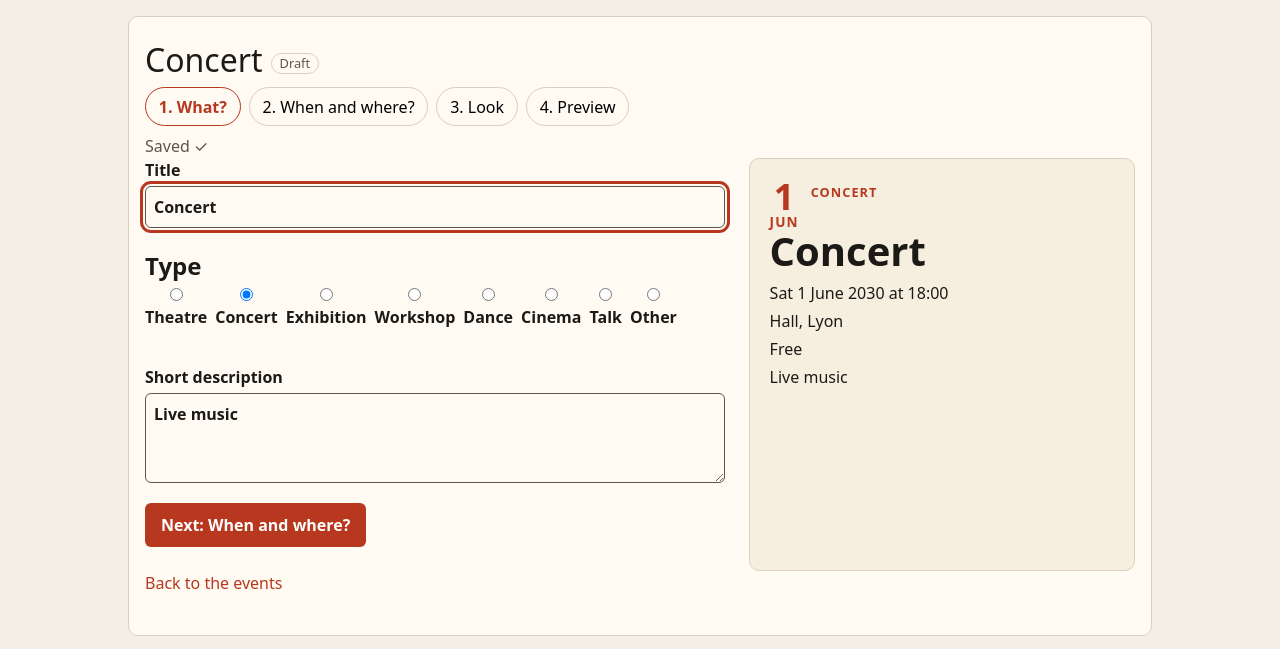
Test: conflicts and session (UC17, UC15 *b) › choosing theirs drops my change and reloads the event
expect the navigation bar named "Steps" is shown: met, box [145,87,629,126]
Replace the text in the field labelled "Title" with "Mine". click: (435, 207)
box: [145,186,725,228]
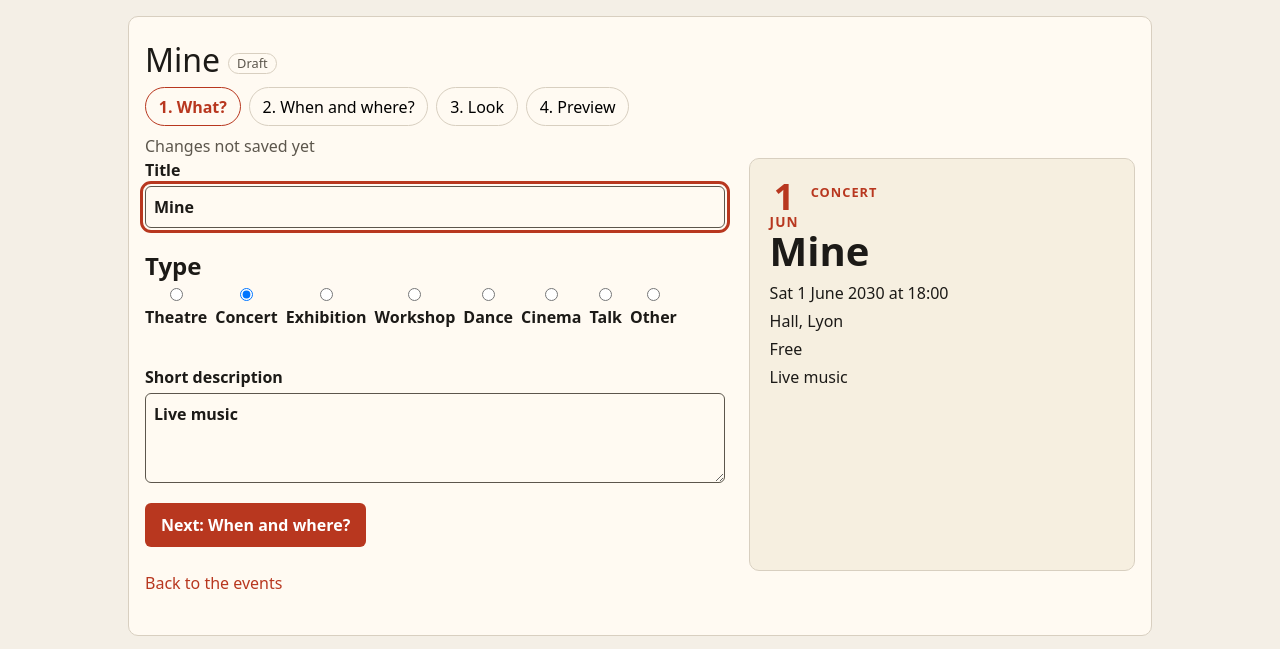
Leave the field labelled "Title", box [145,186,725,228]
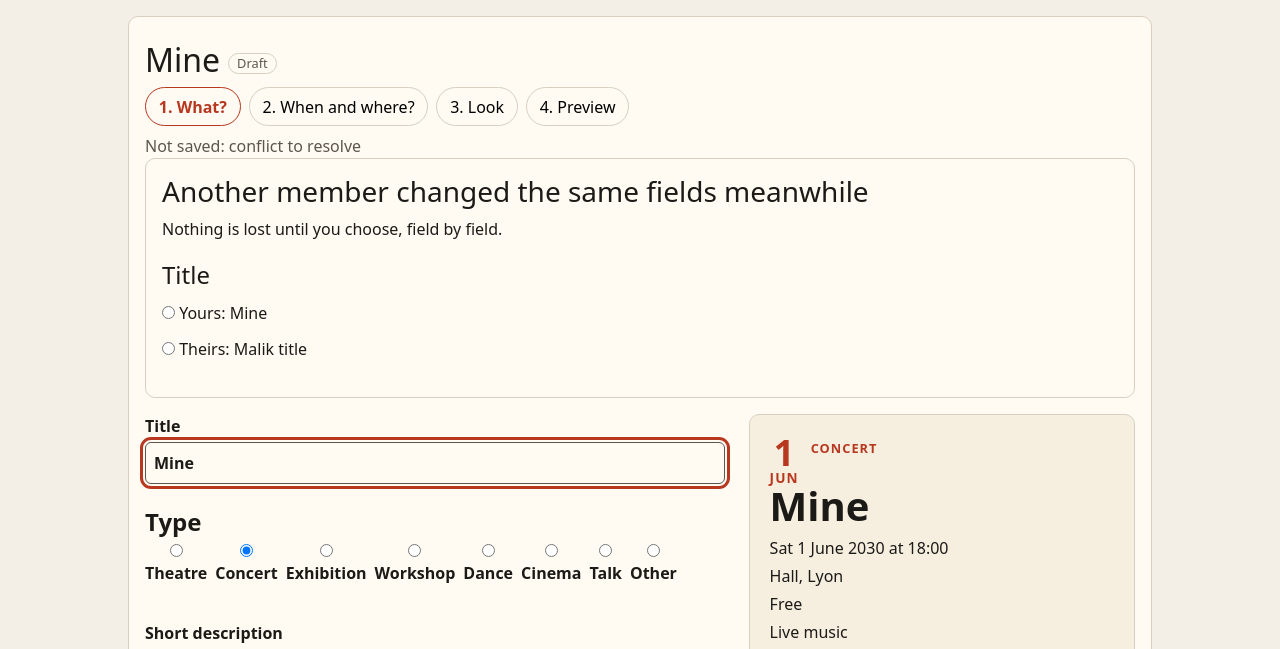
expect the heading "Another member changed the same fields meanwhile" is shown: met, box [162,172,869,210]
Click the radio button labelled "Theirs: Malik title". click: (168, 348)
box: [162,342,175,355]
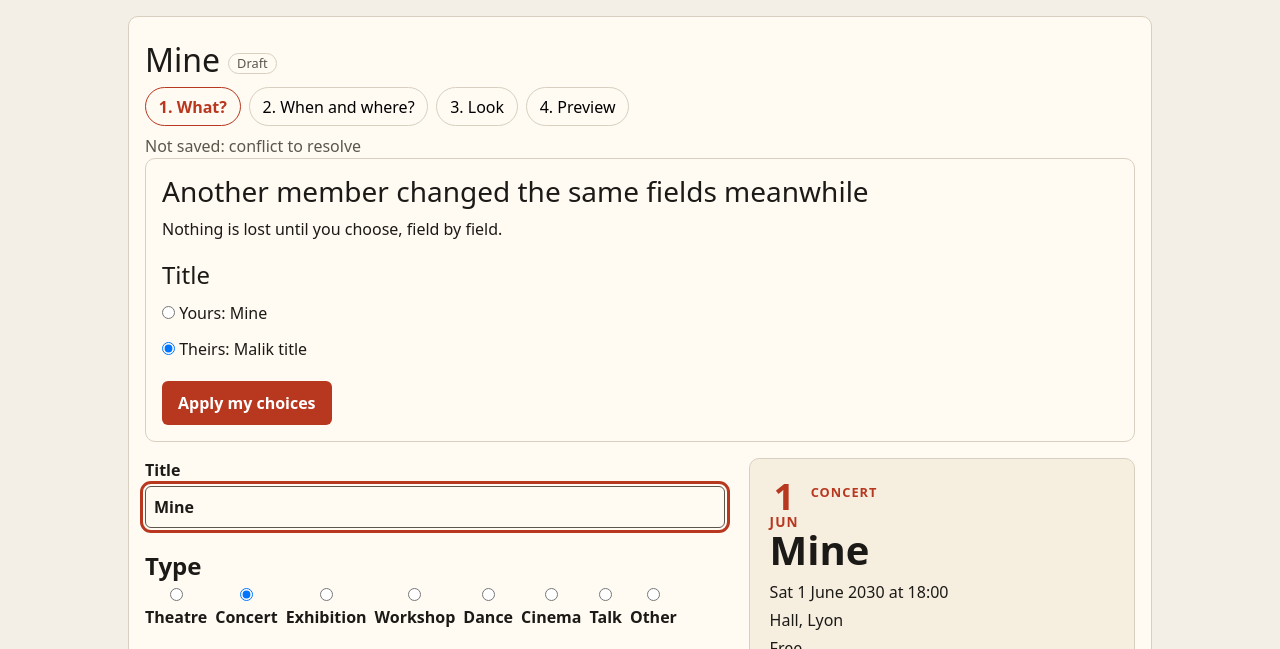
Click the button "Apply my choices". click: (247, 403)
box: [162,381,332,425]
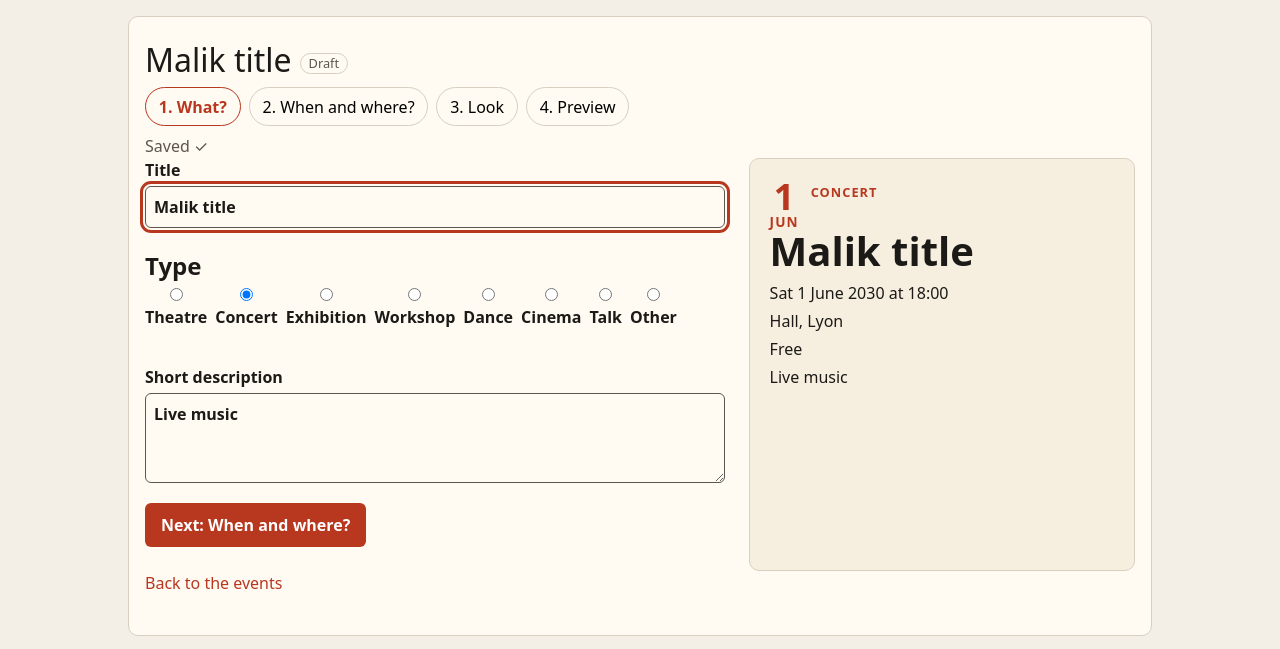
expect the field labelled "Title" holds "Malik title": met, box [145,186,725,228]
